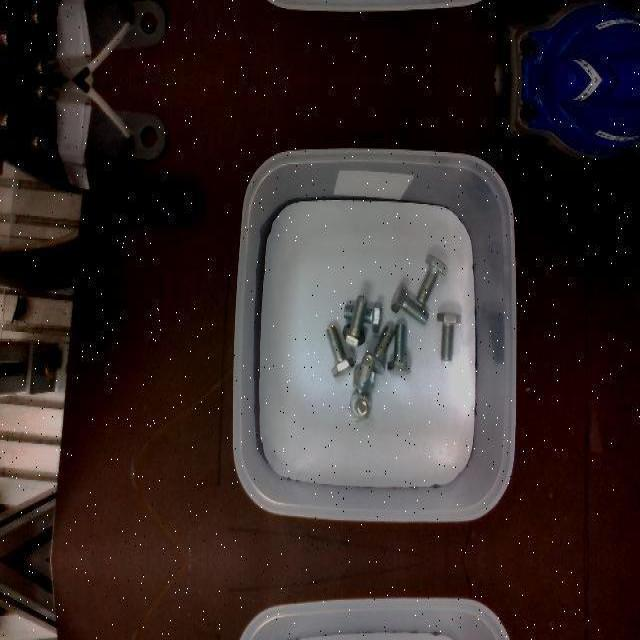screw: (414, 253, 449, 303), (390, 283, 429, 325), (325, 325, 354, 377), (341, 294, 367, 346), (437, 312, 462, 360), (388, 324, 411, 374), (352, 354, 374, 394)
